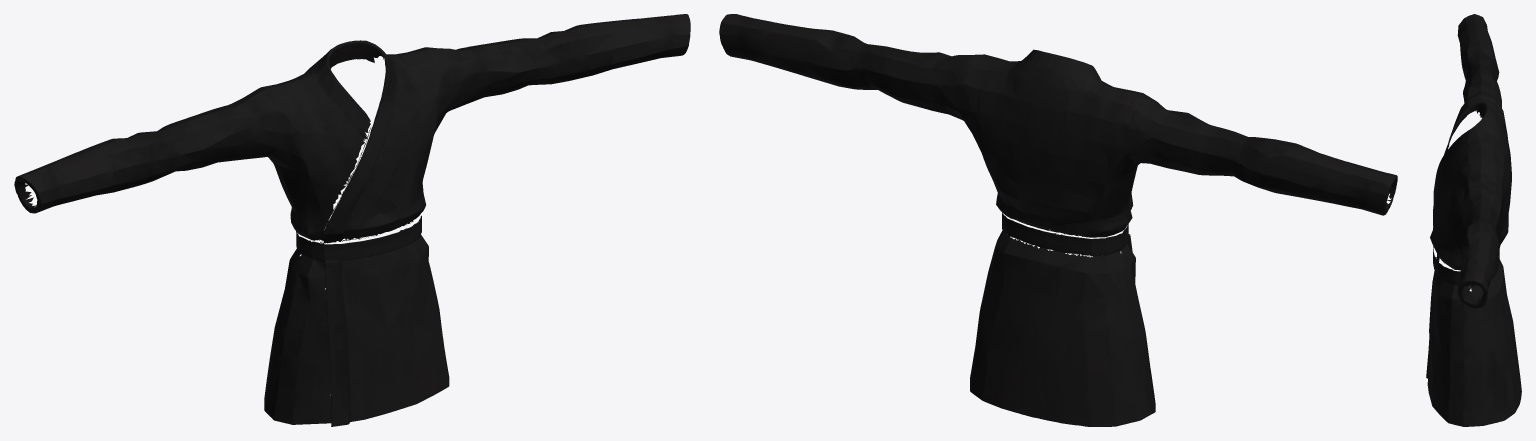
File: assassin_m_shirt.glb
The picture shows the model from 3 angles, left to right: view 1: azimuth 30°, elevation 25°; view 2: azimuth 150°, elevation 25°; view 3: azimuth 270°, elevation 25°; orthographic projection. The views are drawn at different scales.
Parts seen in each view (by area): view 1: lo; view 2: lo; view 3: lo.
Part boxes in pixels (bbox=[...]): lo: bbox=[14, 14, 690, 426]; lo: bbox=[719, 14, 1397, 426]; lo: bbox=[1426, 14, 1521, 426].
Bounding box in the file's own units: 1.39 × 0.69 × 0.2106.
1 material, 1 textured.
